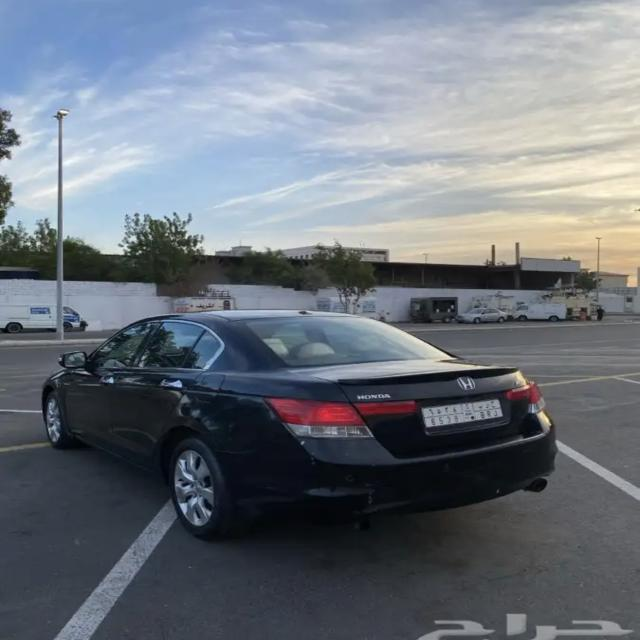license_plate: (420, 398, 502, 428)
